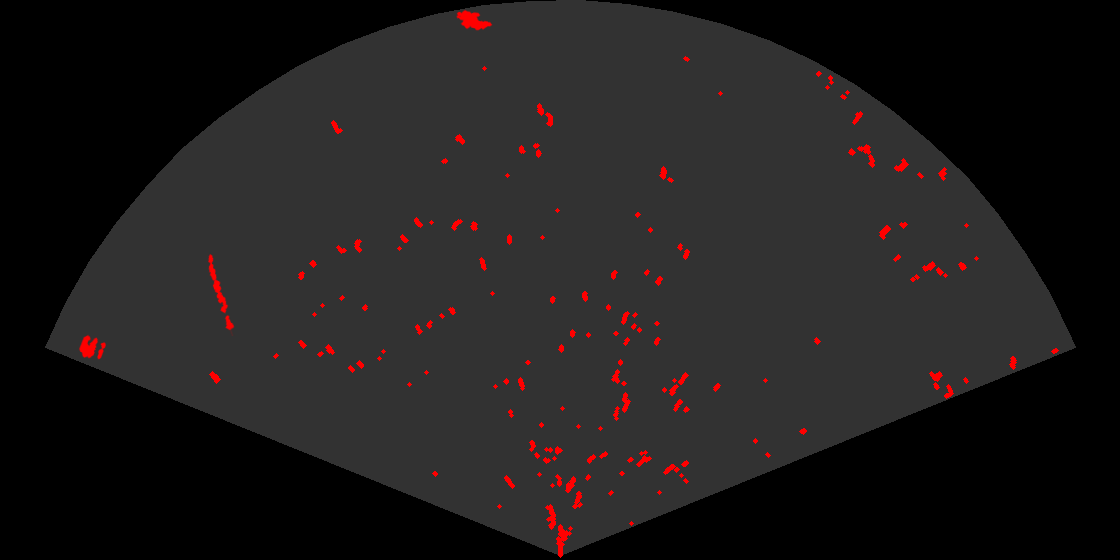AUV: (455, 8, 494, 32)
ball: (77, 333, 108, 361)
chain: (206, 252, 236, 336)
